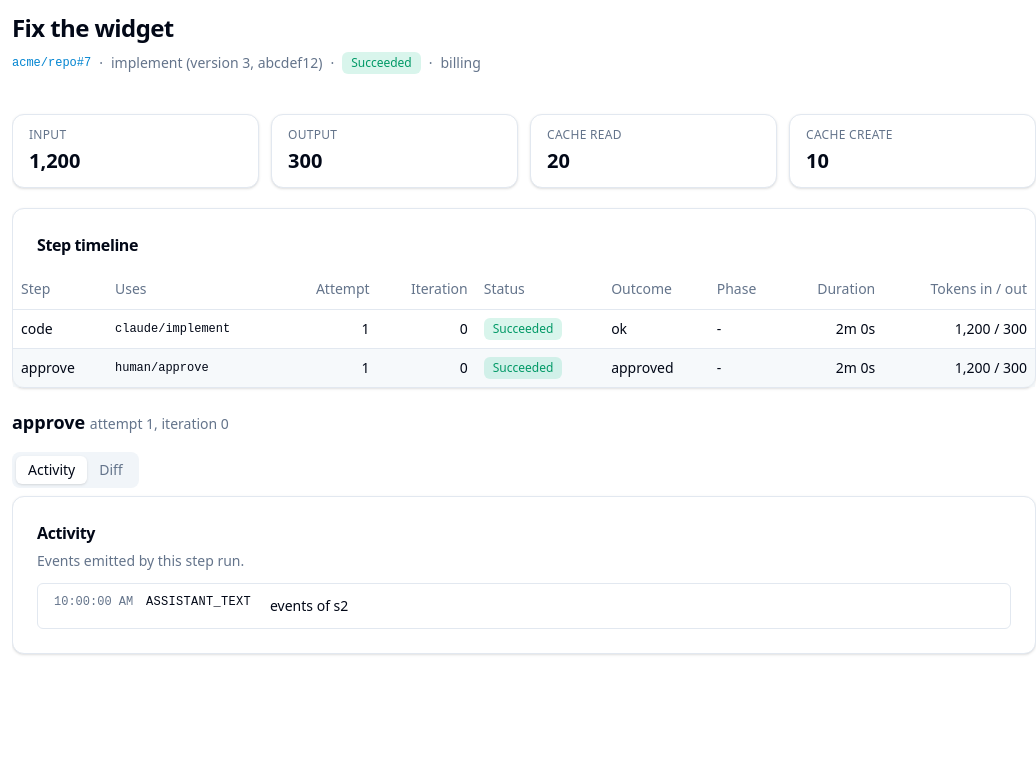
Test case: ProcessDetailPage › step timeline › shows the events of the selected step run
Expected: the text "events of s2" is shown, top-left (270, 596), bottom-right (348, 614)
Click the button "code".
click(37, 328)  # box top-left (21, 318), bottom-right (53, 338)
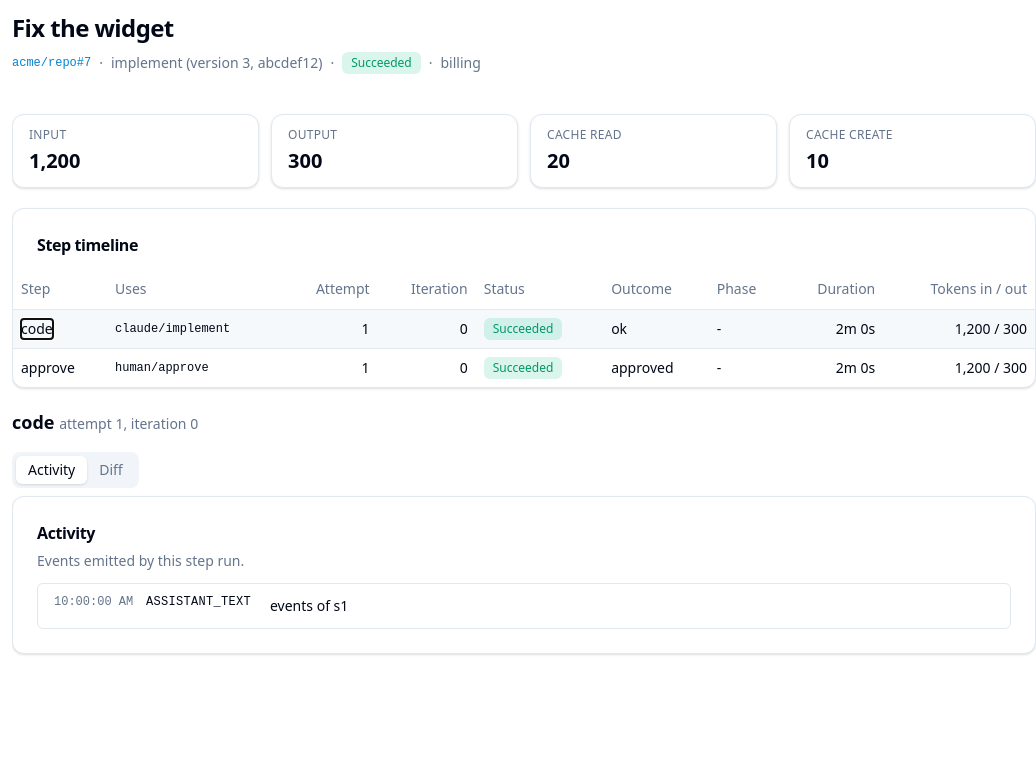
Now the text "events of s1" is shown, box top-left (270, 596), bottom-right (348, 614)
Now the text "events of s2" is gone
